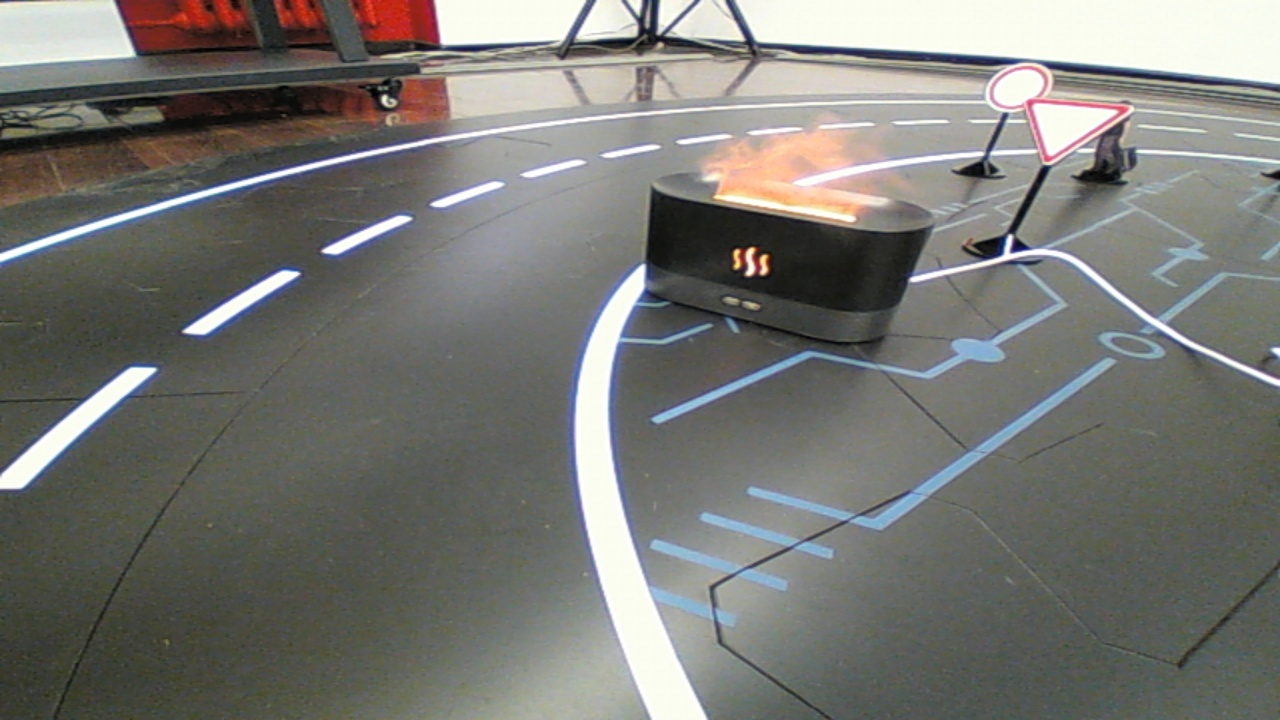Movement prohibition: (599, 148, 955, 358)
